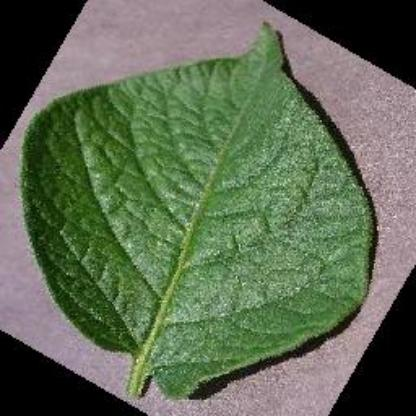Healthy-plant: (17, 20, 384, 400)
